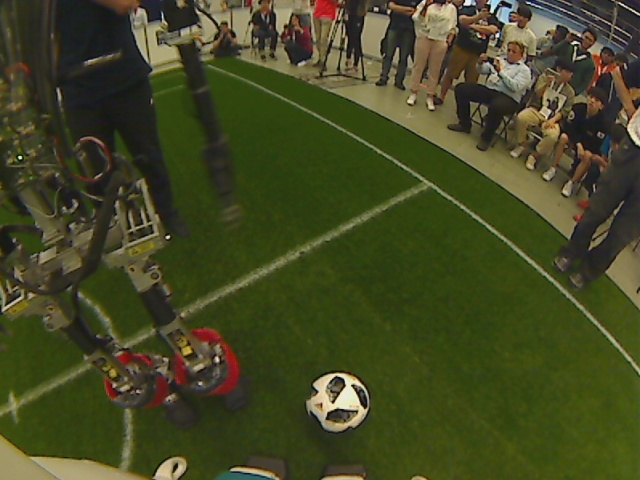ball: (305, 369, 372, 435)
